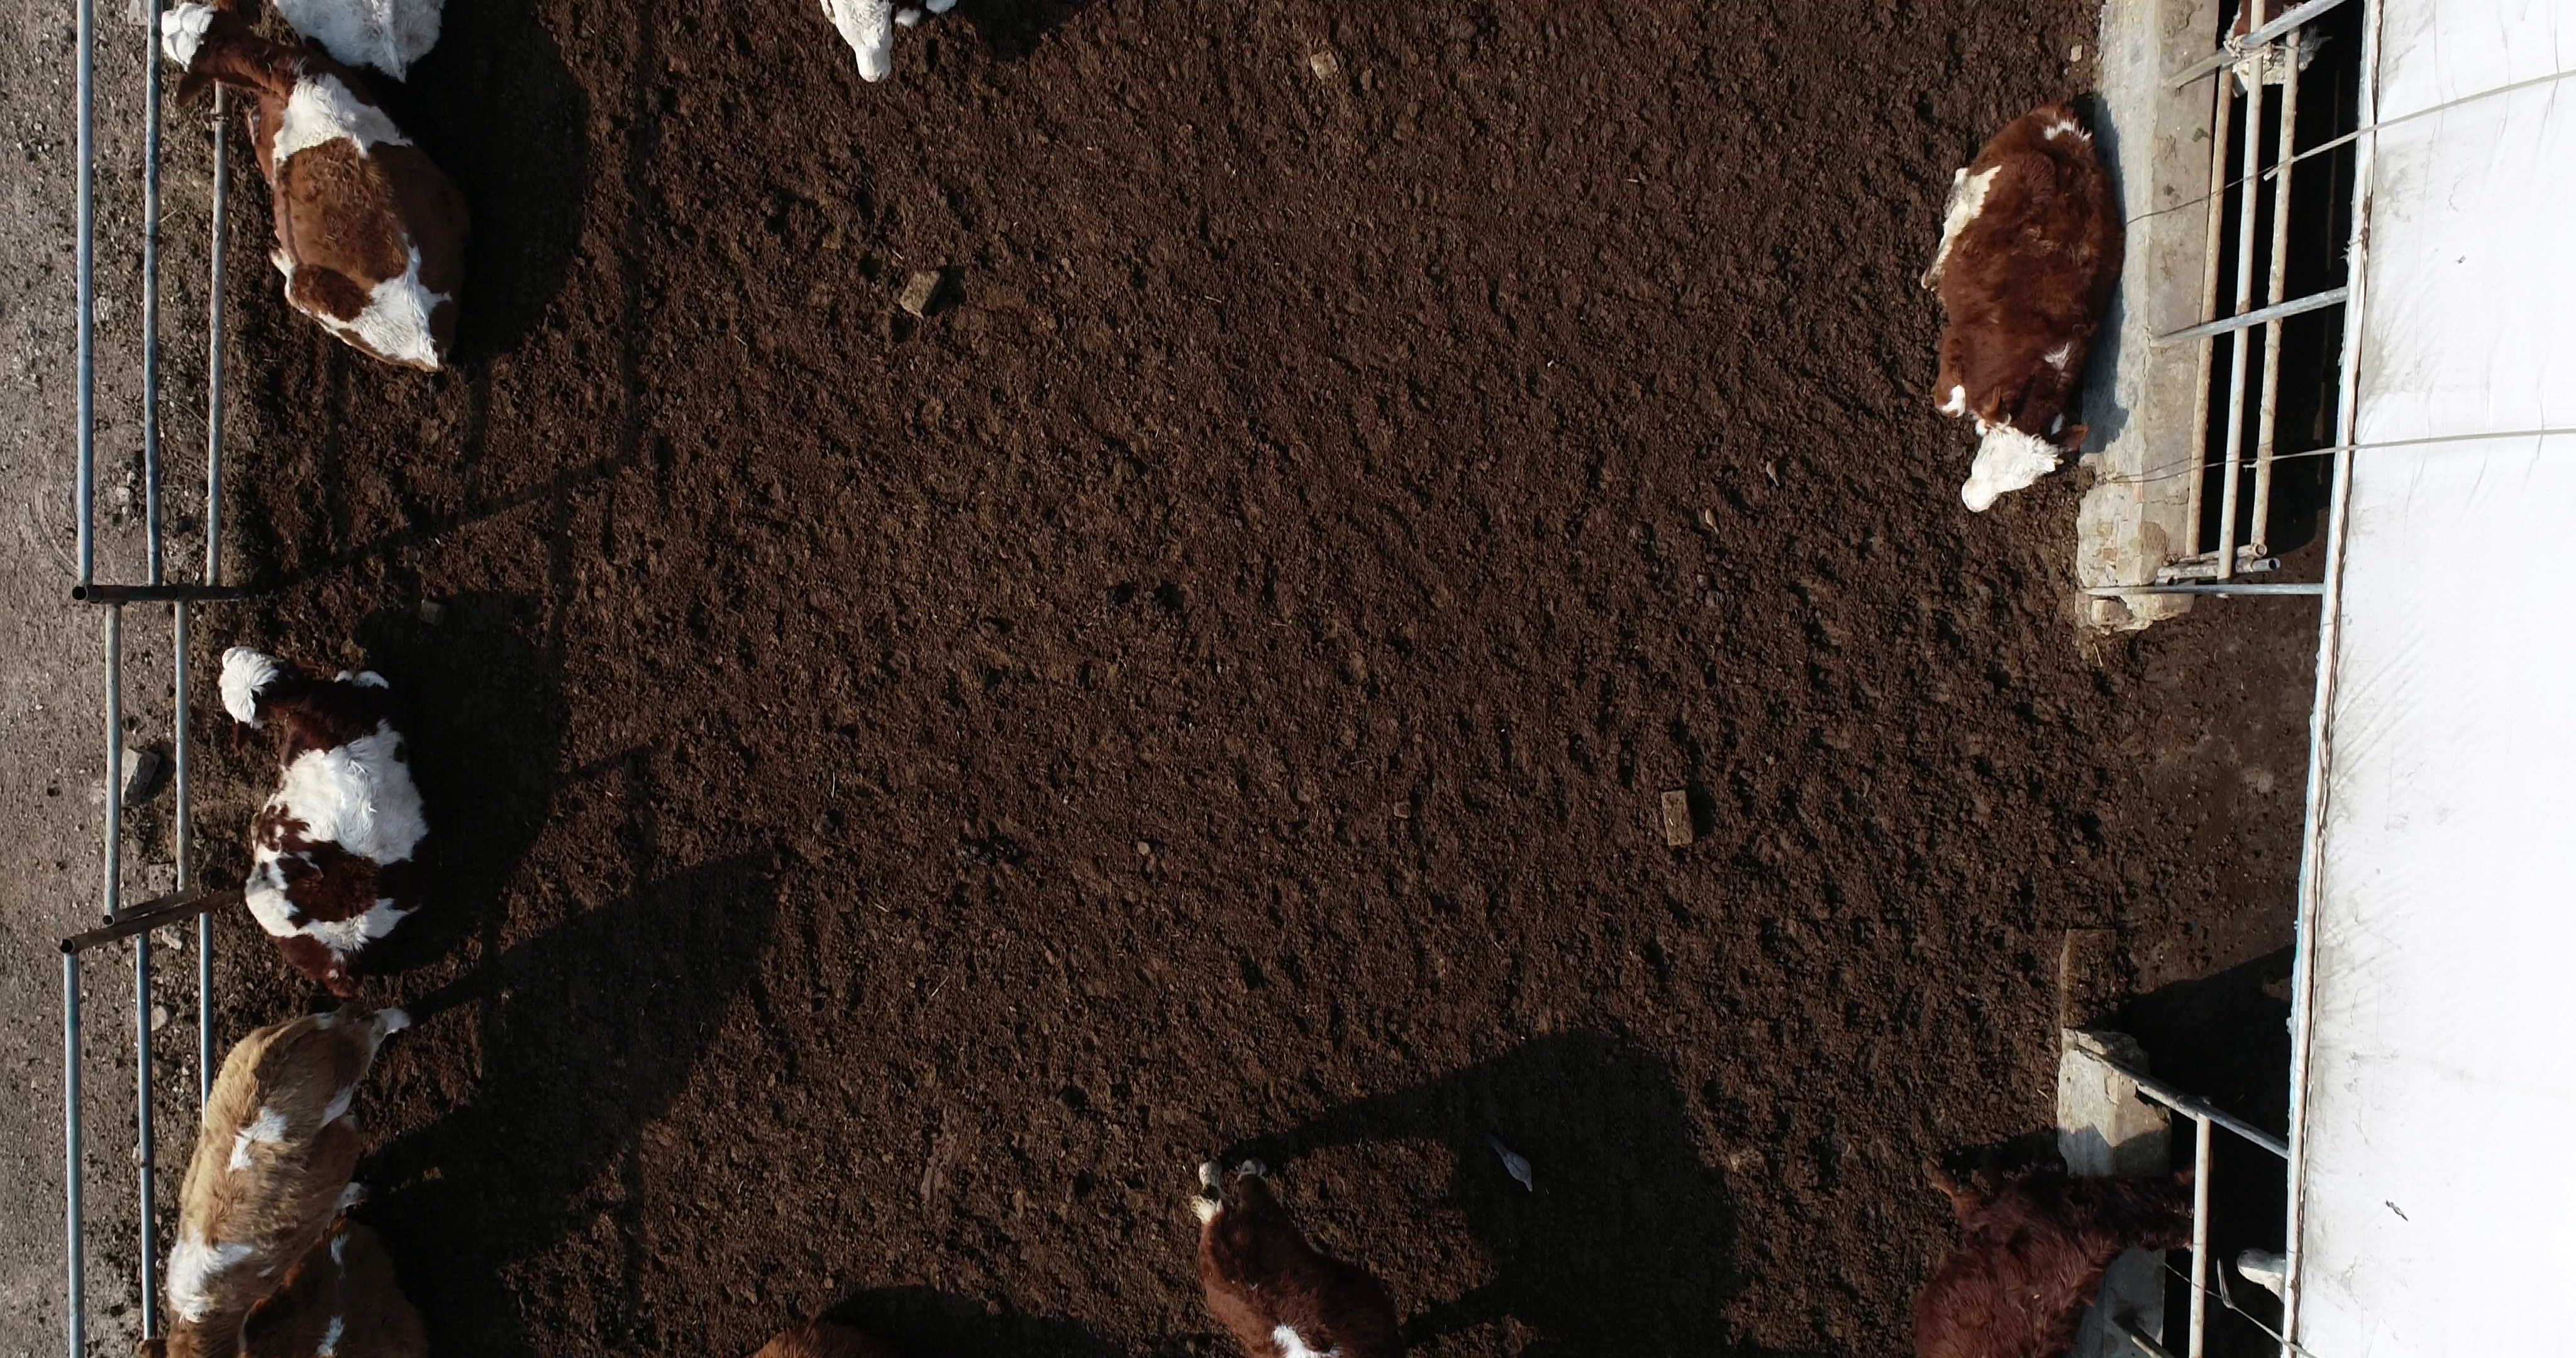cattle: (147, 2, 484, 387), (203, 627, 445, 1009), (1913, 94, 2126, 518)
